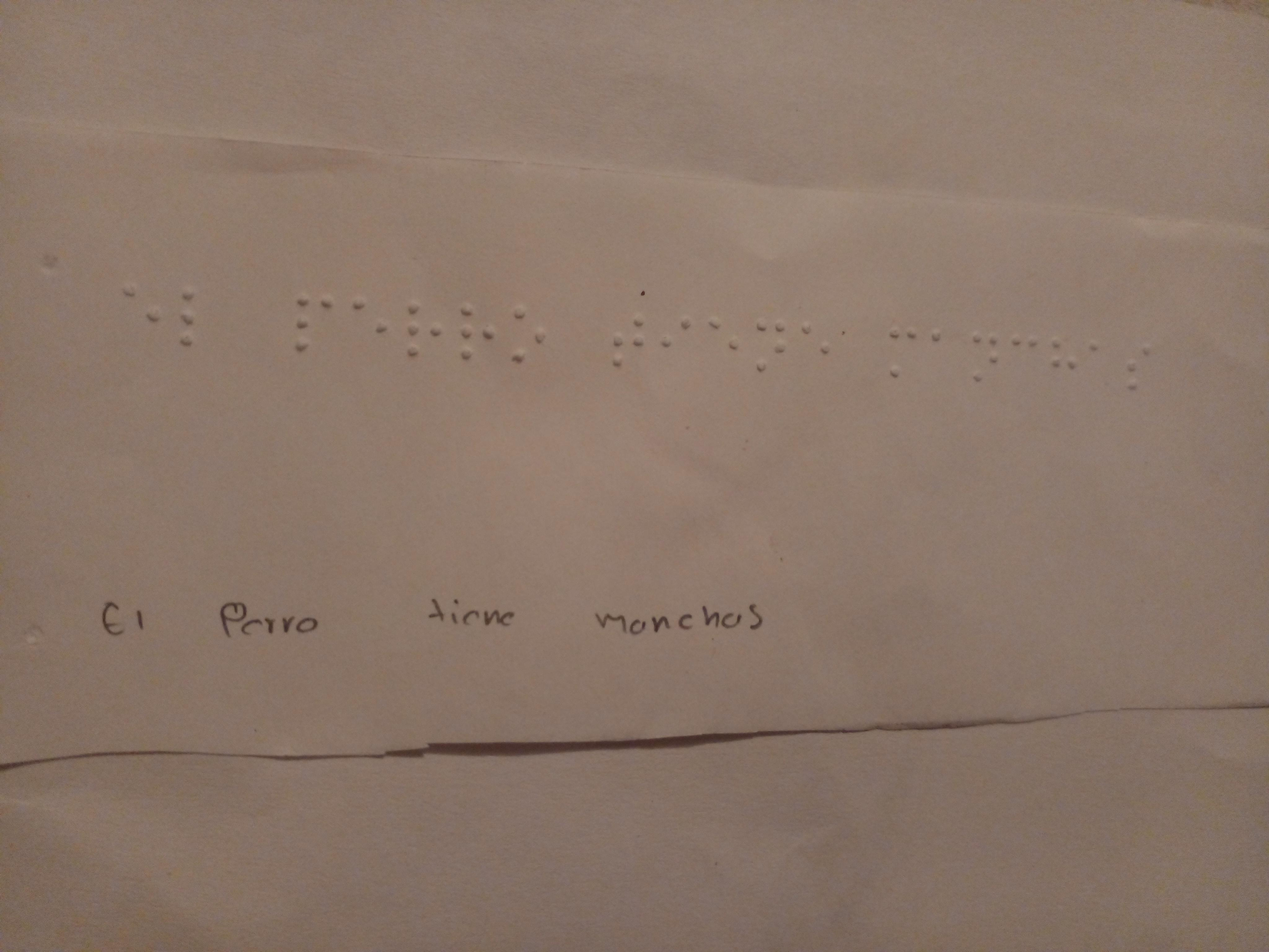a: (919, 318, 953, 361), (1084, 333, 1108, 366)
c: (1010, 325, 1043, 370)
e: (113, 270, 169, 352), (798, 310, 846, 389), (699, 305, 748, 380), (352, 285, 392, 361)
h: (1043, 328, 1081, 390)
i: (654, 308, 694, 359)
l: (172, 282, 220, 361)
m: (881, 310, 919, 387)
n: (750, 311, 795, 381), (967, 322, 1002, 387)
o: (510, 304, 551, 369)
p: (280, 273, 339, 359)
r: (400, 298, 449, 370), (454, 301, 505, 364)
s: (1120, 342, 1173, 395)
t: (604, 293, 652, 377)
